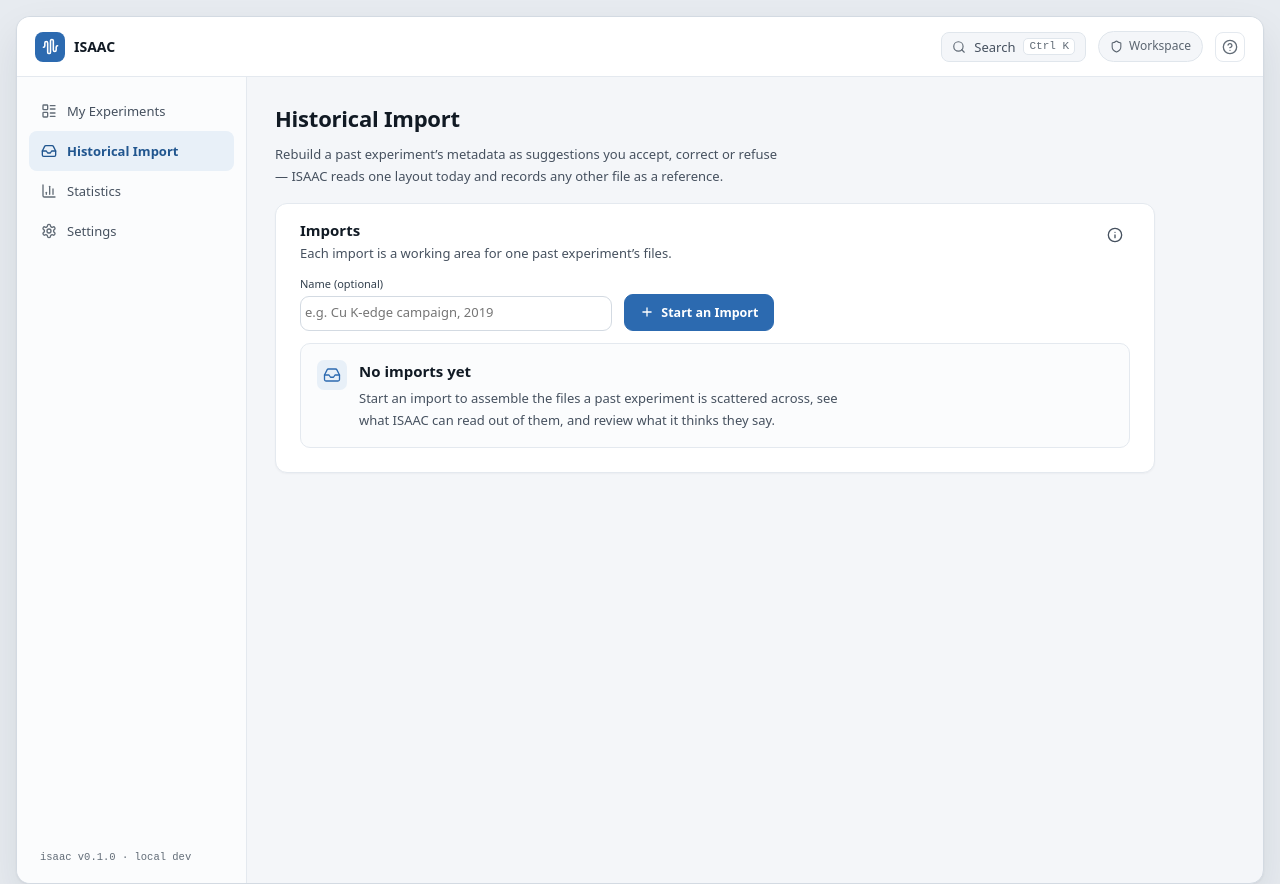
Test: §2 · every one of the nine things a scientist must see is on the screen › an ARCHIVE is named in words — its raw id and where it was read from sit behind the `?`
Click the button "Start an Import".
click(699, 312)  # box [624,294,774,331]
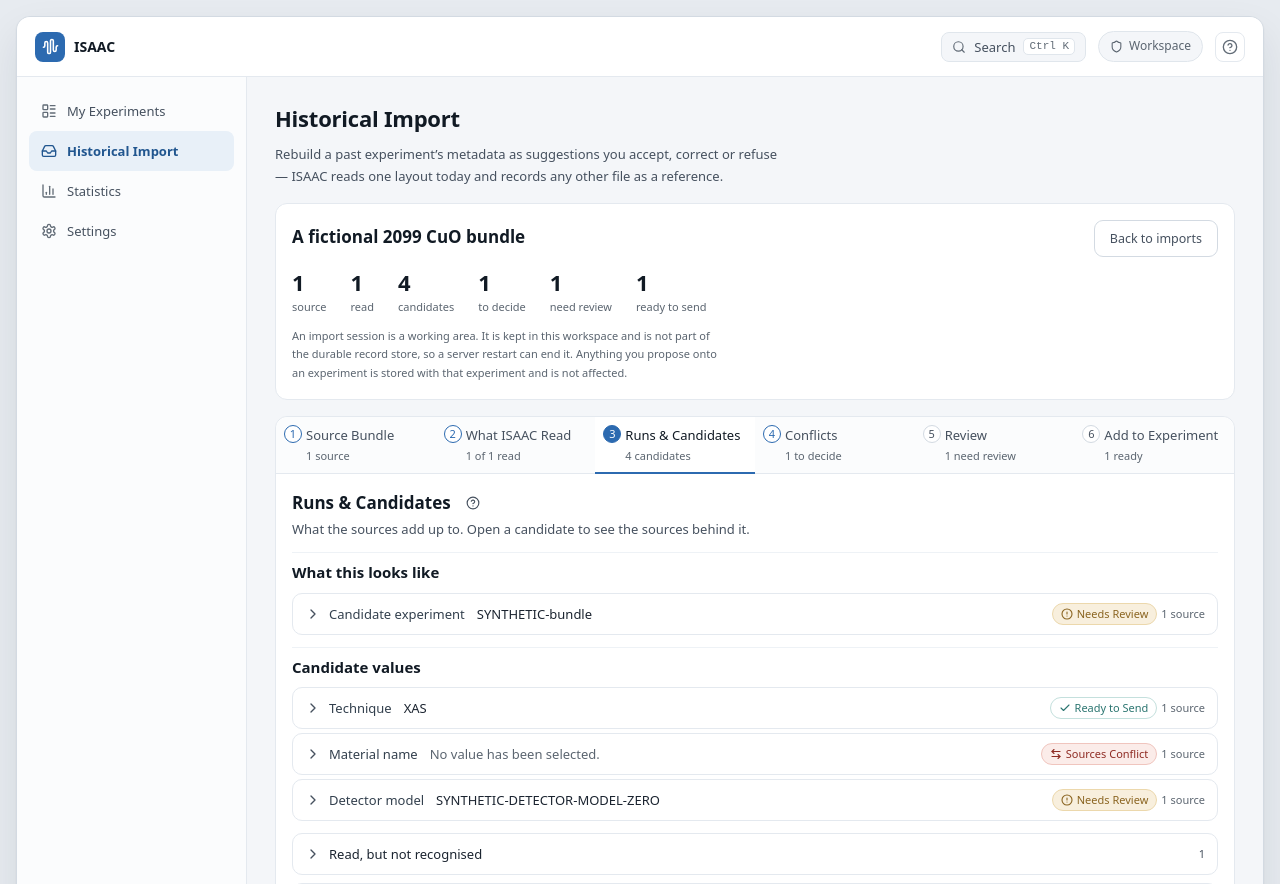
Result: the element named "Import stages" is shown at [276,417,1234,474]
Click the tab "1 Source Bundle 1 source".
click(356, 445)  # box [276,417,436,474]
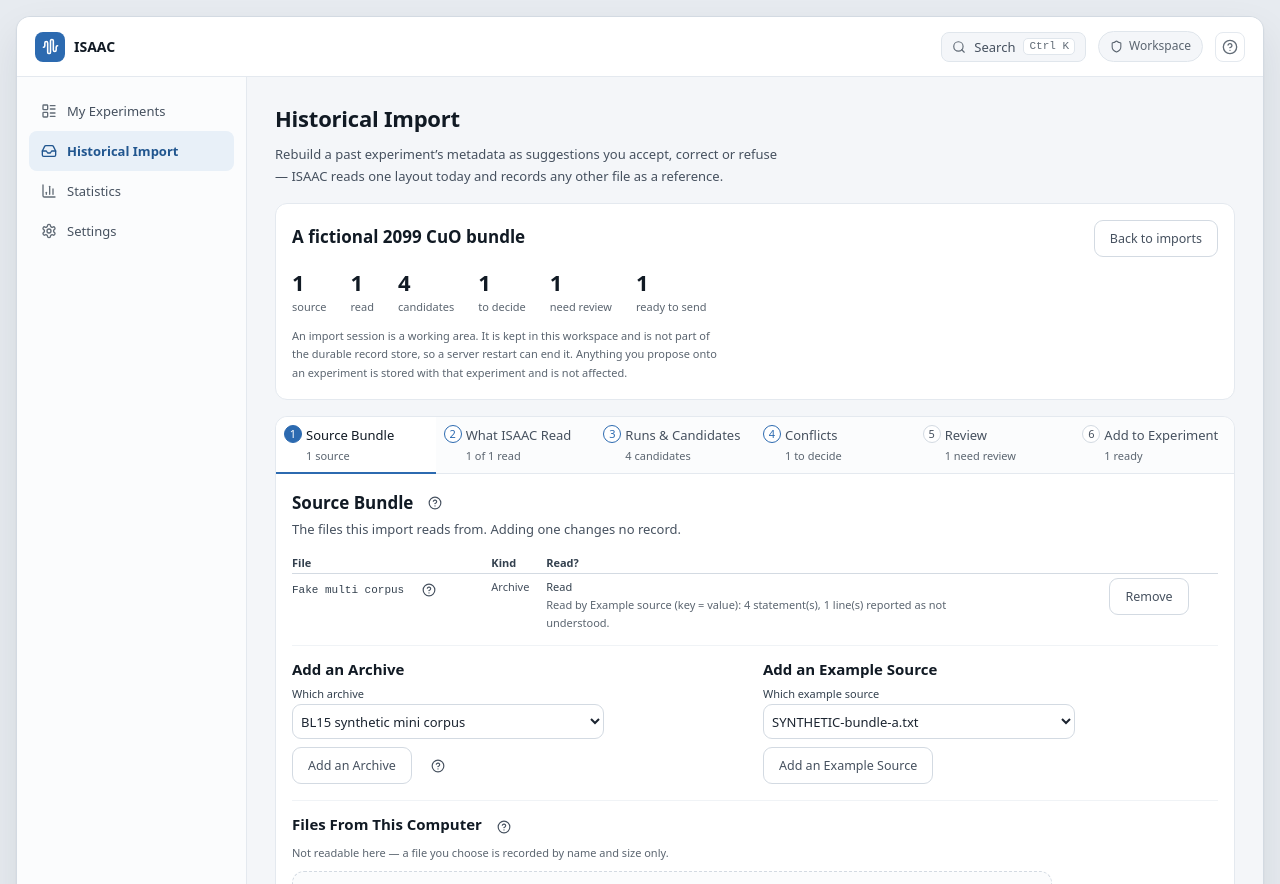
Result: the text "Fake multi corpus" is shown at [292,578,441,602]
